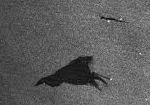anomaly: (32, 49, 122, 105)
